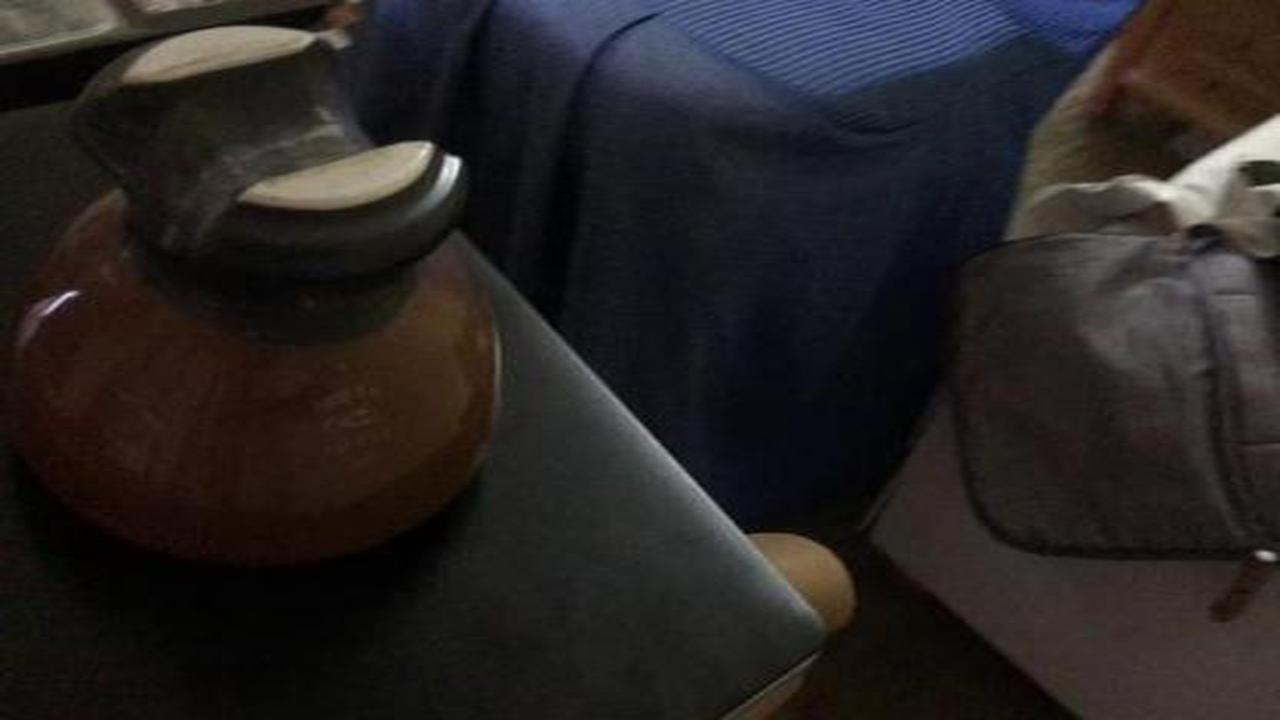insulator_pin: (13, 25, 536, 582)
